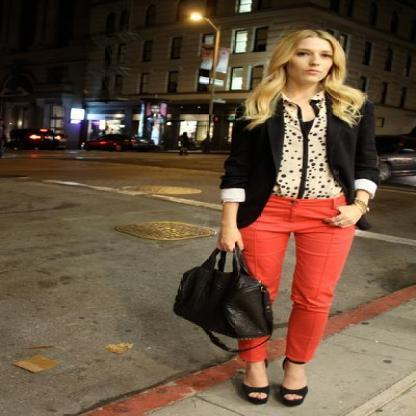bag: (173, 247, 274, 360)
jacket: (212, 94, 380, 230)
pants: (238, 192, 354, 370)
shirt: (274, 94, 342, 199)
shoe: (233, 381, 307, 406)
